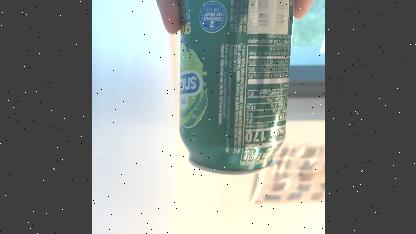Can: (178, 0, 296, 175)
